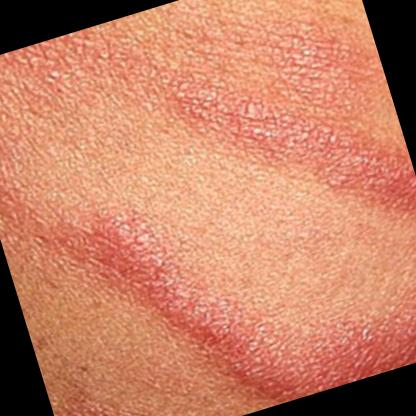Leprosy: (57, 102, 416, 416), (0, 0, 392, 225), (43, 348, 168, 416)
